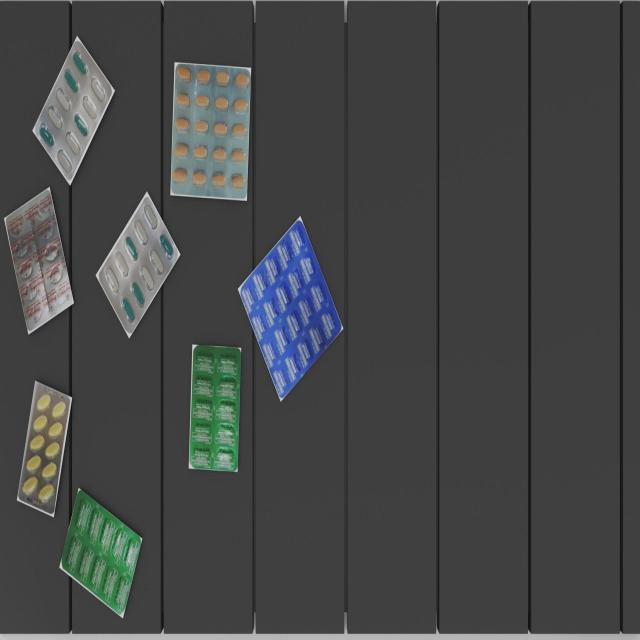blister: (239, 216, 342, 398), (170, 60, 255, 202), (100, 195, 178, 335), (35, 38, 111, 180), (60, 484, 141, 616), (7, 184, 76, 334), (17, 376, 72, 513), (189, 345, 242, 476)
